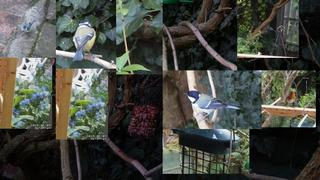blue tit: (72, 20, 96, 61), (21, 20, 36, 39)
great tit: (183, 90, 242, 123)
robin: (284, 90, 296, 108)
